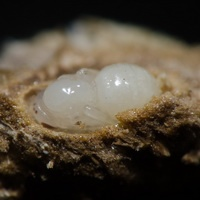insect: (0, 19, 199, 199), (30, 62, 161, 132), (29, 64, 160, 130)
